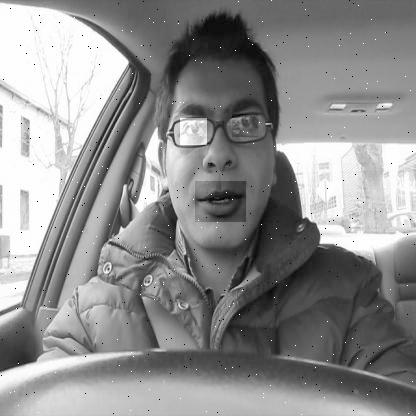seatbelt: (117, 3, 294, 376)
